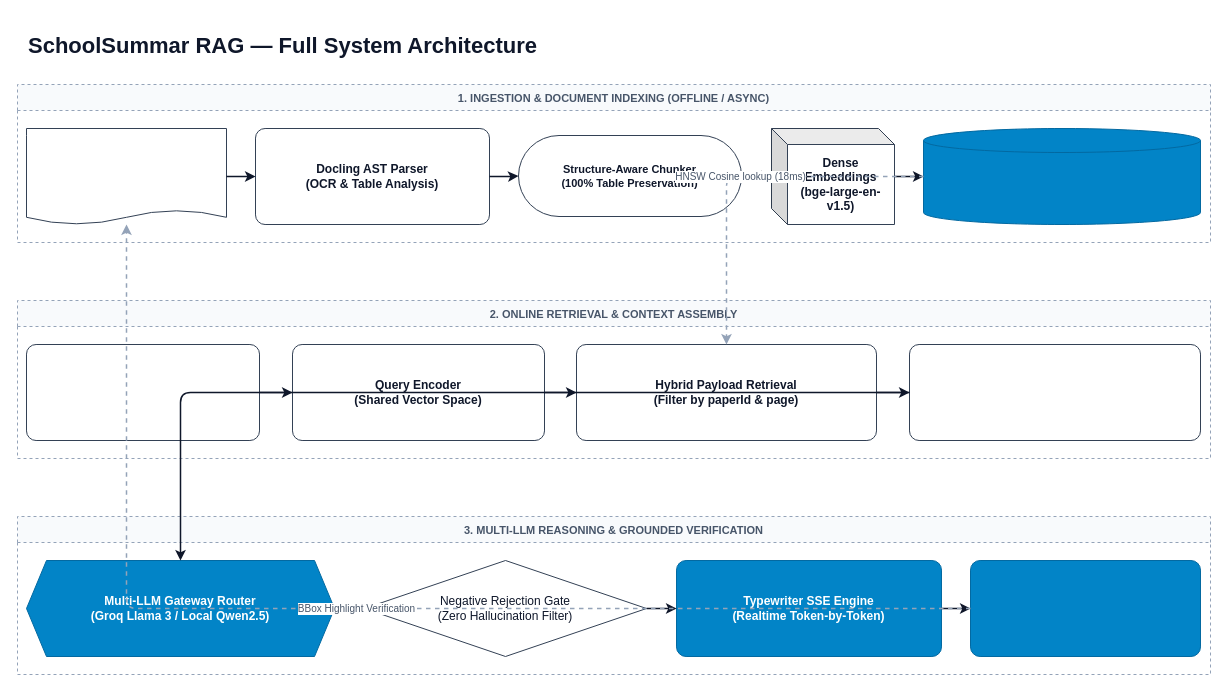
This 1228x692 diagram has some shape labels left out. The shapes that lost their labels are listed below. From the top down, each one's centre as x and y in pixels, then its label:
point (126, 176): Scientific Papers (PDF Multi-Column)
point (1061, 176): Qdrant Cloud & Supabase (1536-dim HNSW + JSONB AST)
point (143, 392): User Research Query (Natural Language)
point (1054, 392): Grounded Context Assembly (Breadcrumbs & Passages)
point (1085, 608): Interactive Answer & Bounding Box Receipts
